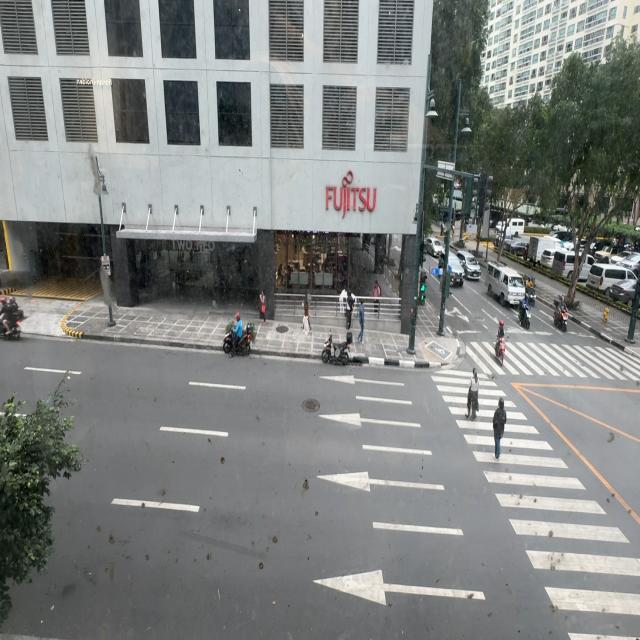crossing: (492, 396, 507, 459), (466, 368, 480, 418)
pedestrain: (357, 299, 365, 342), (302, 296, 311, 332), (261, 292, 267, 326)
